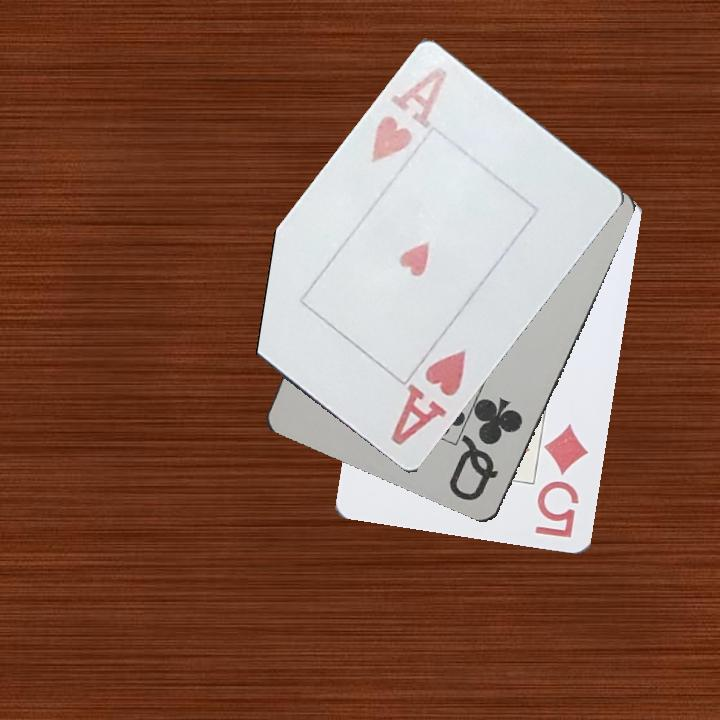5d: (531, 420, 592, 542)
Ah: (367, 63, 450, 167), (387, 347, 469, 449)
Qc: (445, 394, 526, 505)
